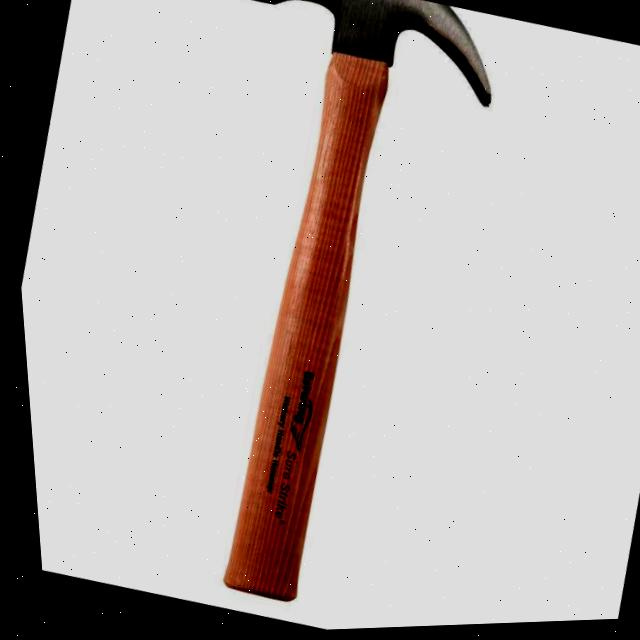hammer: (85, 0, 545, 638)
